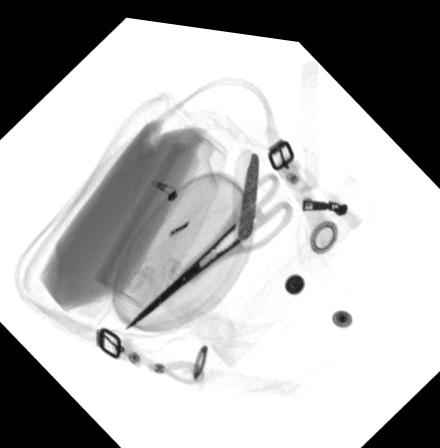Knife: (238, 144, 259, 232)
Scissors: (128, 163, 296, 326)
